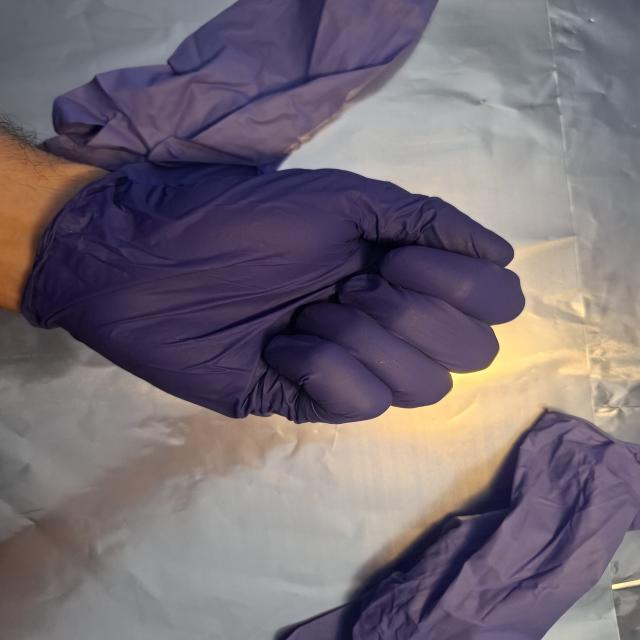glove_on: (27, 157, 530, 428)
